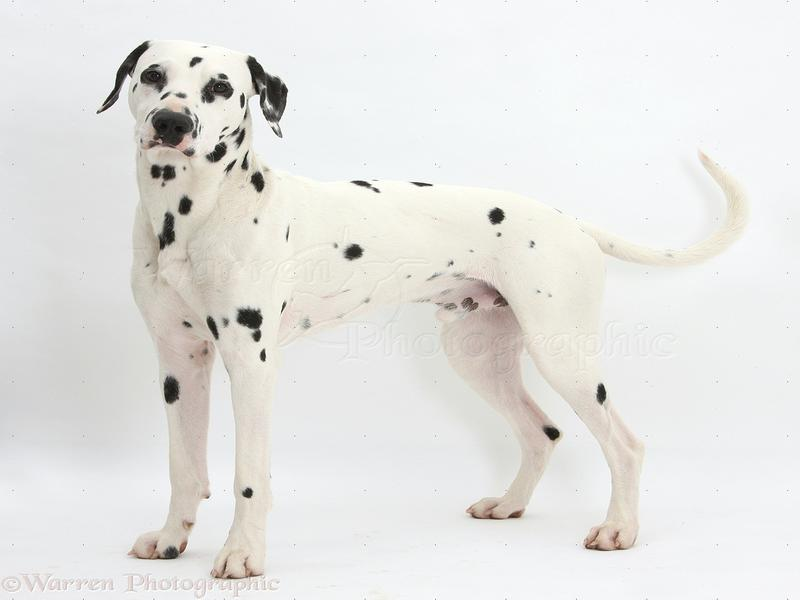dog_stand: (91, 34, 747, 574)
